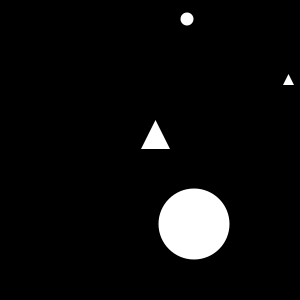rectangle: (158, 189, 229, 260), (180, 13, 194, 26)
triangle: (141, 120, 170, 149), (283, 74, 294, 85)
